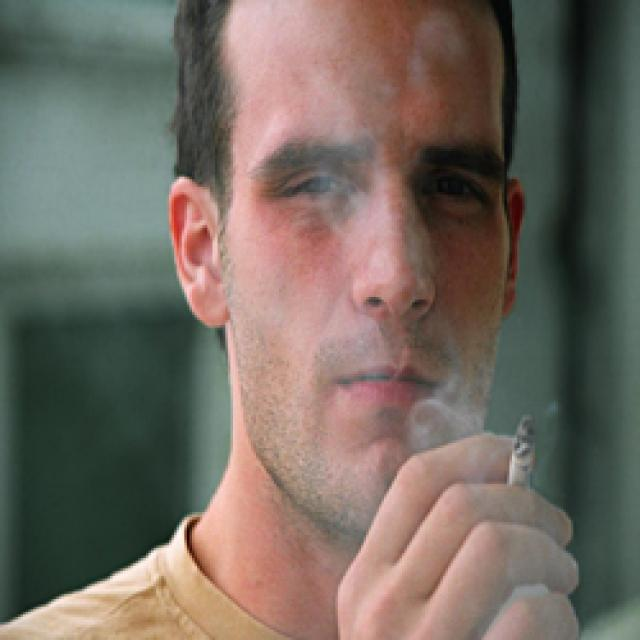Smooking: (496, 401, 550, 494)
